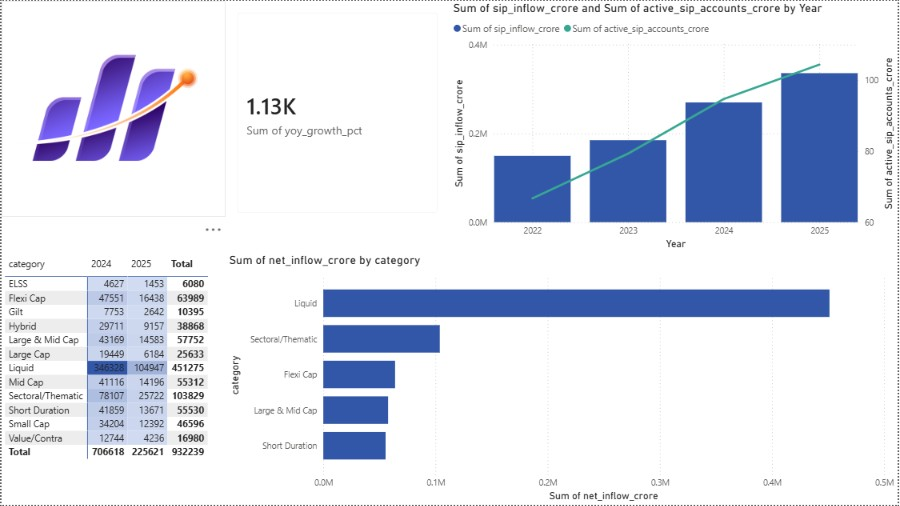

What the dashboard file says about the page in this screenshot:
{"tool":"powerbi","page":{"name":"SIP & Market Trends","canvas":[1280,720],"ordinal":3},"visuals":[{"type":"lineStackedColumnComboChart","fields":{"Category":["clean_monthly_sip_inflows.month.Variation.Date Hierarchy.Year","clean_monthly_sip_inflows.month.Variation.Date Hierarchy.Quarter","clean_monthly_sip_inflows.month.Variation.Date Hierarchy.Month","clean_monthly_sip_inflows.month.Variation.Date Hierarchy.Day"],"Y":["Sum(clean_monthly_sip_inflows.sip_inflow_crore)"],"Y2":["Sum(clean_monthly_sip_inflows.active_sip_accounts_crore)"]},"box":[640,0,640,360],"z":0},{"type":"pivotTable","fields":{"Rows":["clean_category_inflows.category"],"Columns":["clean_category_inflows.month.Variation.Date Hierarchy.Year","clean_category_inflows.month.Variation.Date Hierarchy.Quarter","clean_category_inflows.month.Variation.Date Hierarchy.Month","clean_category_inflows.month.Variation.Date Hierarchy.Day"],"Values":["Sum(clean_category_inflows.net_inflow_crore)"]},"box":[0,360,320,360],"z":1},{"type":"clusteredBarChart","fields":{"Category":["clean_category_inflows.category"],"Y":["Sum(clean_category_inflows.net_inflow_crore)"]},"box":[320,360,960,360],"z":2},{"type":"cardVisual","fields":{"Data":["Sum(clean_monthly_sip_inflows.yoy_growth_pct)"]},"box":[320,0,320,320],"z":3},{"type":"image","box":[0,0,320,308.6],"z":4}]}

Visuals, with their boxes in screenshot pixels (x1, y1, x2, y2), scaled from the page's 1280x720 canvas onto the 900x506 screenshot:
lineStackedColumnComboChart - clean_monthly_sip_inflows.month.Variation.Date Hierarchy.Year x clean_monthly_sip_inflows.month.Variation.Date Hierarchy.Quarter: bbox(450, 0, 899, 253)
pivotTable - clean_category_inflows.category x clean_category_inflows.month.Variation.Date Hierarchy.Year: bbox(0, 253, 225, 505)
clusteredBarChart - clean_category_inflows.category x Sum(clean_category_inflows.net_inflow_crore): bbox(225, 253, 899, 505)
cardVisual - Sum(clean_monthly_sip_inflows.yoy_growth_pct): bbox(225, 0, 450, 225)
image: bbox(0, 0, 225, 217)
